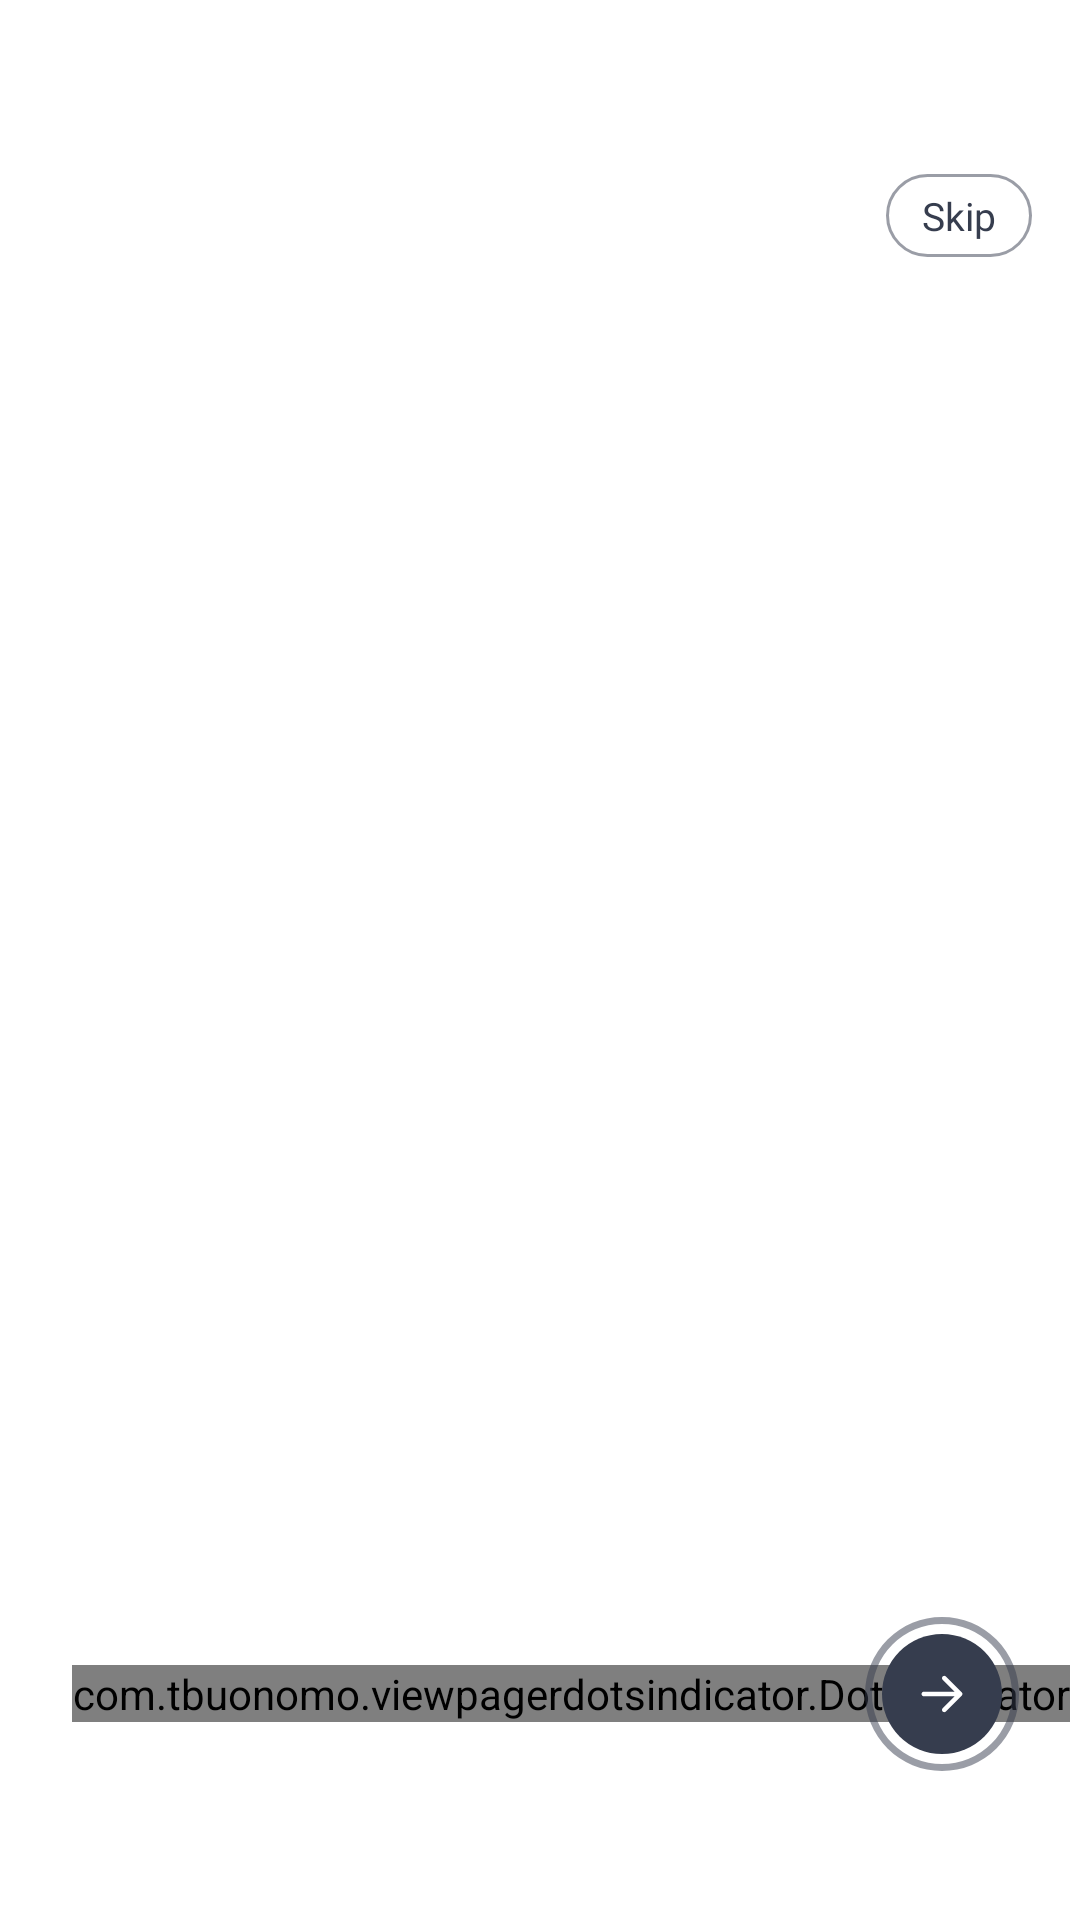

Icon click points for this 1080px×1920px phone screenshot, format (x=x, y=y):
next arrow: (x=942, y=1694)
